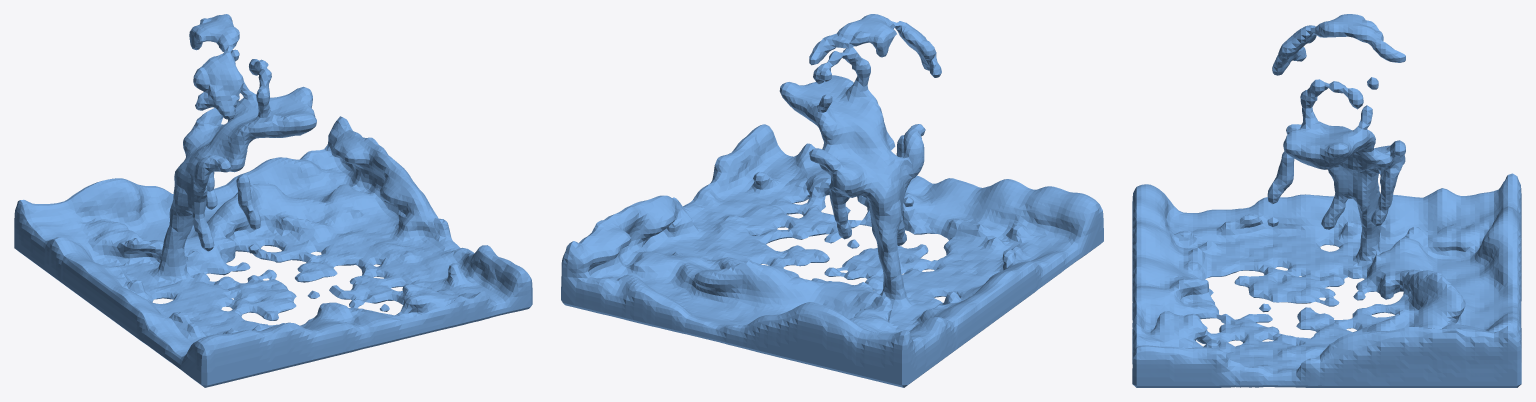
Rendered from water_0088.glb.
3 renders of one model, left to right at view 1: azimuth 30°, elevation 25°; view 2: azimuth 150°, elevation 25°; view 3: azimuth 270°, elevation 25°, orthographic. The views are drawn at different scales.
Visible parts, largest first — view 1: Water_0088; view 2: Water_0088; view 3: Water_0088.
Part boxes in pixels (left/top/right/bottom): Water_0088: left=14, top=14, right=532, bottom=387; Water_0088: left=561, top=14, right=1103, bottom=387; Water_0088: left=1132, top=14, right=1521, bottom=387.
Size of the model in its own units: 4.83 by 3.62 by 4.83.
